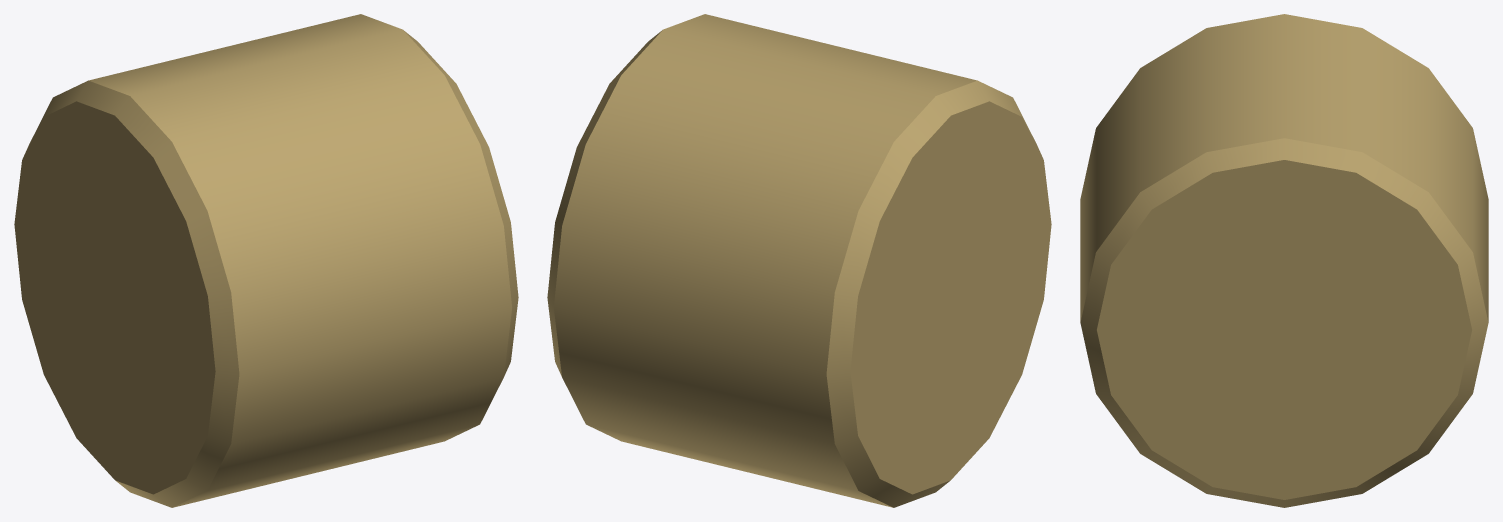
The model's file is farm.bale.round_straw.glb.
3 views of the same model, side by side, from view 1: azimuth 30°, elevation 25°; view 2: azimuth 150°, elevation 25°; view 3: azimuth 270°, elevation 25° (orthographic). The views are drawn at different scales.
Visible parts, largest first — view 1: main__timber_ba6; view 2: main__timber_ba6; view 3: main__timber_ba6.
Part boxes in pixels (x1,y1,x2,y2): main__timber_ba6: (14, 14, 518, 507); main__timber_ba6: (547, 14, 1051, 507); main__timber_ba6: (1080, 14, 1488, 507).
Bounding box in the file's own units: 1.2 × 1.5 × 1.5.
